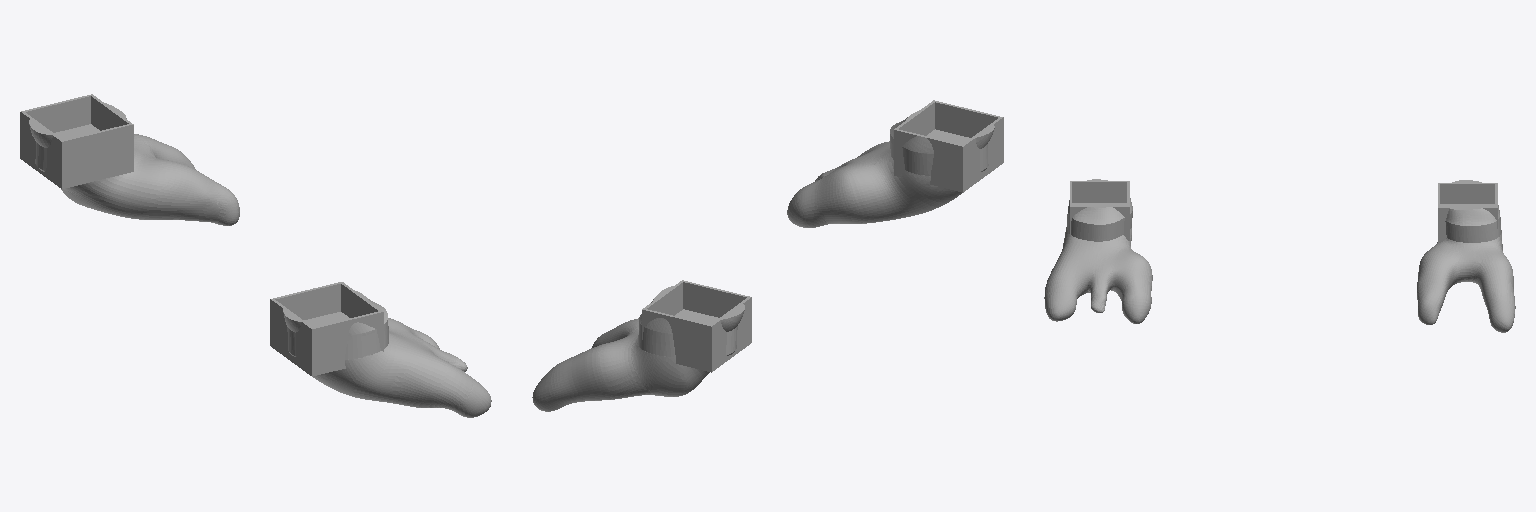
URDF robot description (FrogBot4_top-FrogBot4-x-3_bottom-FrogBot4-x-3):
<?xml version="1.0" ?>
<robot name="FrogBot4_top-FrogBot4-x-3_bottom-FrogBot4-x-3">

<material name="pla_5_percent_infill">
  <color rgba="0.700 0.700 0.700 1.000"/>
</material>

<link name="base_link">
  <inertial>
    <origin xyz="0 0 0" rpy="0 0 0"/>
    <mass value="1.4608203761339813"/>
    <inertia ixx="0.00496034401110324" iyy="0.010259632804669863" izz="0.010457868746855814" ixy="4.519338143051983e-05" iyz="5.808312742508133e-05" ixz="-0.001193761897574285"/>
  </inertial>
  <visual>
    <origin xyz="0 0 0" rpy="0 0 0"/>
    <geometry>
      <mesh filename="simple_meshes/base_link.stl" scale="0.001 0.001 0.001"/>
    </geometry>
    <material name="pla_5_percent_infill"/>
  </visual>
  <collision>
    <origin xyz="0 0 0" rpy="0 0 0"/>
    <geometry>
      <mesh filename="simple_meshes/base_link.stl" scale="0.001 0.001 0.001"/>
    </geometry>
  </collision>
</link>

<link name="body_1_0_1">
  <inertial>
    <origin xyz="-0.039935 -0.102508 -0.020563" rpy="0 0 0"/>
    <mass value="0.07144629366706118"/>
    <inertia ixx="7.542233123959208e-05" iyy="8.893405553124745e-05" izz="3.190656022220516e-05" ixy="8.958871266520293e-07" iyz="2.178495739828262e-06" ixz="-1.2484975052093947e-05"/>
  </inertial>
  <visual>
    <origin xyz="-0.039935 -0.102508 -0.020563" rpy="0 0 0"/>
    <geometry>
      <mesh filename="simple_meshes/body_1_0_1.stl" scale="0.001 0.001 0.001"/>
    </geometry>
    <material name="pla_5_percent_infill"/>
  </visual>
  <collision>
    <origin xyz="-0.039935 -0.102508 -0.020563" rpy="0 0 0"/>
    <geometry>
      <mesh filename="simple_meshes/body_1_0_1.stl" scale="0.001 0.001 0.001"/>
    </geometry>
  </collision>
</link>

<link name="body_1_1_1">
  <inertial>
    <origin xyz="0.084829 -0.102508 0.010182" rpy="0 0 0"/>
    <mass value="0.07880117918071514"/>
    <inertia ixx="5.4827380118847554e-05" iyy="9.552257855402967e-05" izz="6.0919720009596206e-05" ixy="-1.5235723012250926e-06" iyz="1.2687707818212512e-06" ixz="-2.1673407834108167e-05"/>
  </inertial>
  <visual>
    <origin xyz="0.084829 -0.102508 0.010182" rpy="0 0 0"/>
    <geometry>
      <mesh filename="simple_meshes/body_1_1_1.stl" scale="0.001 0.001 0.001"/>
    </geometry>
    <material name="pla_5_percent_infill"/>
  </visual>
  <collision>
    <origin xyz="0.084829 -0.102508 0.010182" rpy="0 0 0"/>
    <geometry>
      <mesh filename="simple_meshes/body_1_1_1.stl" scale="0.001 0.001 0.001"/>
    </geometry>
  </collision>
</link>

<link name="body_1_2_1">
  <inertial>
    <origin xyz="-0.032973 0.102508 -0.03352" rpy="0 0 0"/>
    <mass value="0.07776903154181106"/>
    <inertia ixx="9.526411621679168e-05" iyy="0.00010789375636346739" izz="3.535846431043741e-05" ixy="-2.37555302128609e-06" iyz="-1.0325512892246598e-05" ixz="-1.0659449811279055e-05"/>
  </inertial>
  <visual>
    <origin xyz="-0.032973 0.102508 -0.03352" rpy="0 0 0"/>
    <geometry>
      <mesh filename="simple_meshes/body_1_2_1.stl" scale="0.001 0.001 0.001"/>
    </geometry>
    <material name="pla_5_percent_infill"/>
  </visual>
  <collision>
    <origin xyz="-0.032973 0.102508 -0.03352" rpy="0 0 0"/>
    <geometry>
      <mesh filename="simple_meshes/body_1_2_1.stl" scale="0.001 0.001 0.001"/>
    </geometry>
  </collision>
</link>

<link name="body_1_3_1">
  <inertial>
    <origin xyz="0.075405 0.102508 -0.000907" rpy="0 0 0"/>
    <mass value="0.08438053198213159"/>
    <inertia ixx="6.0787729408156785e-05" iyy="0.00010241168200502803" izz="6.374248486077034e-05" ixy="3.0938201464342924e-07" iyz="-1.2872990172884584e-06" ixz="-2.1785447361448852e-05"/>
  </inertial>
  <visual>
    <origin xyz="0.075405 0.102508 -0.000907" rpy="0 0 0"/>
    <geometry>
      <mesh filename="simple_meshes/body_1_3_1.stl" scale="0.001 0.001 0.001"/>
    </geometry>
    <material name="pla_5_percent_infill"/>
  </visual>
  <collision>
    <origin xyz="0.075405 0.102508 -0.000907" rpy="0 0 0"/>
    <geometry>
      <mesh filename="simple_meshes/body_1_3_1.stl" scale="0.001 0.001 0.001"/>
    </geometry>
  </collision>
</link>

<link name="body_2_0_1">
  <inertial>
    <origin xyz="-0.025656 -0.145015 0.100436" rpy="0 0 0"/>
    <mass value="0.07007487479104725"/>
    <inertia ixx="4.389398440364121e-05" iyy="6.91446167399943e-05" izz="8.004083187596457e-05" ixy="-6.577873622886938e-07" iyz="-1.1177342819422391e-07" ixz="1.967434061046693e-05"/>
  </inertial>
  <visual>
    <origin xyz="-0.025656 -0.145015 0.100436" rpy="0 0 0"/>
    <geometry>
      <mesh filename="simple_meshes/body_2_0_1.stl" scale="0.001 0.001 0.001"/>
    </geometry>
    <material name="pla_5_percent_infill"/>
  </visual>
  <collision>
    <origin xyz="-0.025656 -0.145015 0.100436" rpy="0 0 0"/>
    <geometry>
      <mesh filename="simple_meshes/body_2_0_1.stl" scale="0.001 0.001 0.001"/>
    </geometry>
  </collision>
</link>

<link name="body_2_1_1">
  <inertial>
    <origin xyz="0.114857 -0.145661 0.100438" rpy="0 0 0"/>
    <mass value="0.06298721520008338"/>
    <inertia ixx="3.2514082299281086e-05" iyy="6.482717761447038e-05" izz="5.905490117860722e-05" ixy="-5.609012037292231e-06" iyz="3.887319510953446e-06" ixz="2.0068575656371568e-05"/>
  </inertial>
  <visual>
    <origin xyz="0.114857 -0.145661 0.100438" rpy="0 0 0"/>
    <geometry>
      <mesh filename="simple_meshes/body_2_1_1.stl" scale="0.001 0.001 0.001"/>
    </geometry>
    <material name="pla_5_percent_infill"/>
  </visual>
  <collision>
    <origin xyz="0.114857 -0.145661 0.100438" rpy="0 0 0"/>
    <geometry>
      <mesh filename="simple_meshes/body_2_1_1.stl" scale="0.001 0.001 0.001"/>
    </geometry>
  </collision>
</link>

<link name="body_2_2_1">
  <inertial>
    <origin xyz="-0.022601 0.152053 0.100436" rpy="0 0 0"/>
    <mass value="0.07770135432815288"/>
    <inertia ixx="4.8473858452904514e-05" iyy="7.492619992616623e-05" izz="8.720529197772837e-05" ixy="-1.518928222088759e-06" iyz="2.2126559400589135e-07" ixz="2.11838450998919e-05"/>
  </inertial>
  <visual>
    <origin xyz="-0.022601 0.152053 0.100436" rpy="0 0 0"/>
    <geometry>
      <mesh filename="simple_meshes/body_2_2_1.stl" scale="0.001 0.001 0.001"/>
    </geometry>
    <material name="pla_5_percent_infill"/>
  </visual>
  <collision>
    <origin xyz="-0.022601 0.152053 0.100436" rpy="0 0 0"/>
    <geometry>
      <mesh filename="simple_meshes/body_2_2_1.stl" scale="0.001 0.001 0.001"/>
    </geometry>
  </collision>
</link>

<link name="body_2_3_1">
  <inertial>
    <origin xyz="0.12145 0.146005 0.100436" rpy="0 0 0"/>
    <mass value="0.060238847933080736"/>
    <inertia ixx="3.856857507410693e-05" iyy="5.224331007420112e-05" izz="5.9562273070122487e-05" ixy="8.22696729869119e-06" iyz="-6.758235078979874e-06" ixz="1.4434811045756506e-05"/>
  </inertial>
  <visual>
    <origin xyz="0.12145 0.146005 0.100436" rpy="0 0 0"/>
    <geometry>
      <mesh filename="simple_meshes/body_2_3_1.stl" scale="0.001 0.001 0.001"/>
    </geometry>
    <material name="pla_5_percent_infill"/>
  </visual>
  <collision>
    <origin xyz="0.12145 0.146005 0.100436" rpy="0 0 0"/>
    <geometry>
      <mesh filename="simple_meshes/body_2_3_1.stl" scale="0.001 0.001 0.001"/>
    </geometry>
  </collision>
</link>

<joint name="joint_1_0" type="revolute">
  <origin xyz="0.039935 0.102508 0.020563" rpy="0 0 0"/>
  <parent link="base_link"/>
  <child link="body_1_0_1"/>
  <axis xyz="1.0 0.0 0.0"/>
  <limit upper="1.2" lower="-1.2" effort="3.8" velocity="5.4"/>
</joint>
<transmission name="joint_1_0_tran">
  <type>transmission_interface/SimpleTransmission</type>
  <joint name="joint_1_0">
    <hardwareInterface>PositionJointInterface</hardwareInterface>
  </joint>
  <actuator name="joint_1_0_actr">
    <hardwareInterface>PositionJointInterface</hardwareInterface>
    <mechanicalReduction>1</mechanicalReduction>
  </actuator>
</transmission>

<joint name="joint_1_1" type="revolute">
  <origin xyz="-0.084829 0.102508 -0.010182" rpy="0 0 0"/>
  <parent link="base_link"/>
  <child link="body_1_1_1"/>
  <axis xyz="1.0 0.0 0.0"/>
  <limit upper="1.2" lower="-1.2" effort="3.8" velocity="5.4"/>
</joint>
<transmission name="joint_1_1_tran">
  <type>transmission_interface/SimpleTransmission</type>
  <joint name="joint_1_1">
    <hardwareInterface>PositionJointInterface</hardwareInterface>
  </joint>
  <actuator name="joint_1_1_actr">
    <hardwareInterface>PositionJointInterface</hardwareInterface>
    <mechanicalReduction>1</mechanicalReduction>
  </actuator>
</transmission>

<joint name="joint_1_2" type="revolute">
  <origin xyz="0.032973 -0.102508 0.03352" rpy="0 0 0"/>
  <parent link="base_link"/>
  <child link="body_1_2_1"/>
  <axis xyz="1.0 0.0 0.0"/>
  <limit upper="1.2" lower="-1.2" effort="3.8" velocity="5.4"/>
</joint>
<transmission name="joint_1_2_tran">
  <type>transmission_interface/SimpleTransmission</type>
  <joint name="joint_1_2">
    <hardwareInterface>PositionJointInterface</hardwareInterface>
  </joint>
  <actuator name="joint_1_2_actr">
    <hardwareInterface>PositionJointInterface</hardwareInterface>
    <mechanicalReduction>1</mechanicalReduction>
  </actuator>
</transmission>

<joint name="joint_1_3" type="revolute">
  <origin xyz="-0.075405 -0.102508 0.000907" rpy="0 0 0"/>
  <parent link="base_link"/>
  <child link="body_1_3_1"/>
  <axis xyz="1.0 0.0 0.0"/>
  <limit upper="1.2" lower="-1.2" effort="3.8" velocity="5.4"/>
</joint>
<transmission name="joint_1_3_tran">
  <type>transmission_interface/SimpleTransmission</type>
  <joint name="joint_1_3">
    <hardwareInterface>PositionJointInterface</hardwareInterface>
  </joint>
  <actuator name="joint_1_3_actr">
    <hardwareInterface>PositionJointInterface</hardwareInterface>
    <mechanicalReduction>1</mechanicalReduction>
  </actuator>
</transmission>

<joint name="joint_2_0" type="revolute">
  <origin xyz="-0.014279 0.042507 -0.120999" rpy="0 0 0"/>
  <parent link="body_1_0_1"/>
  <child link="body_2_0_1"/>
  <axis xyz="1.0 0.0 0.0"/>
  <limit upper="1.2" lower="-1.2" effort="3.8" velocity="5.4"/>
</joint>
<transmission name="joint_2_0_tran">
  <type>transmission_interface/SimpleTransmission</type>
  <joint name="joint_2_0">
    <hardwareInterface>PositionJointInterface</hardwareInterface>
  </joint>
  <actuator name="joint_2_0_actr">
    <hardwareInterface>PositionJointInterface</hardwareInterface>
    <mechanicalReduction>1</mechanicalReduction>
  </actuator>
</transmission>

<joint name="joint_2_1" type="revolute">
  <origin xyz="-0.030028 0.043153 -0.090256" rpy="0 0 0"/>
  <parent link="body_1_1_1"/>
  <child link="body_2_1_1"/>
  <axis xyz="1.0 0.0 0.0"/>
  <limit upper="1.2" lower="-1.2" effort="3.8" velocity="5.4"/>
</joint>
<transmission name="joint_2_1_tran">
  <type>transmission_interface/SimpleTransmission</type>
  <joint name="joint_2_1">
    <hardwareInterface>PositionJointInterface</hardwareInterface>
  </joint>
  <actuator name="joint_2_1_actr">
    <hardwareInterface>PositionJointInterface</hardwareInterface>
    <mechanicalReduction>1</mechanicalReduction>
  </actuator>
</transmission>

<joint name="joint_2_2" type="revolute">
  <origin xyz="-0.010372 -0.049545 -0.133956" rpy="0 0 0"/>
  <parent link="body_1_2_1"/>
  <child link="body_2_2_1"/>
  <axis xyz="1.0 0.0 0.0"/>
  <limit upper="1.2" lower="-1.2" effort="3.8" velocity="5.4"/>
</joint>
<transmission name="joint_2_2_tran">
  <type>transmission_interface/SimpleTransmission</type>
  <joint name="joint_2_2">
    <hardwareInterface>PositionJointInterface</hardwareInterface>
  </joint>
  <actuator name="joint_2_2_actr">
    <hardwareInterface>PositionJointInterface</hardwareInterface>
    <mechanicalReduction>1</mechanicalReduction>
  </actuator>
</transmission>

<joint name="joint_2_3" type="revolute">
  <origin xyz="-0.046045 -0.043497 -0.101343" rpy="0 0 0"/>
  <parent link="body_1_3_1"/>
  <child link="body_2_3_1"/>
  <axis xyz="1.0 0.0 0.0"/>
  <limit upper="1.2" lower="-1.2" effort="3.8" velocity="5.4"/>
</joint>
<transmission name="joint_2_3_tran">
  <type>transmission_interface/SimpleTransmission</type>
  <joint name="joint_2_3">
    <hardwareInterface>PositionJointInterface</hardwareInterface>
  </joint>
  <actuator name="joint_2_3_actr">
    <hardwareInterface>PositionJointInterface</hardwareInterface>
    <mechanicalReduction>1</mechanicalReduction>
  </actuator>
</transmission>

</robot>

--- Render facts (derived) ---
3 views of the same robot in one strip: view 1: azimuth 30°, elevation 25°; view 2: azimuth 150°, elevation 25°; view 3: azimuth 270°, elevation 25° (orthographic).
Model FrogBot4_top-FrogBot4-x-3_bottom-FrogBot4-x-3 with 9 links and 8 joints (8 revolute), rooted at base_link, posed all joints at 0.
Links seen in each view (by area): view 1: body_2_2_1, body_2_0_1; view 2: body_2_2_1, body_2_0_1; view 3: body_2_2_1, body_2_0_1.
Link boxes in pixels (x1=…): body_2_2_1: x1=270, y1=282, x2=491, y2=417; body_2_0_1: x1=20, y1=94, x2=239, y2=225; body_2_2_1: x1=787, y1=100, x2=1003, y2=227; body_2_0_1: x1=532, y1=280, x2=751, y2=411; body_2_2_1: x1=1044, y1=179, x2=1152, y2=323; body_2_0_1: x1=1417, y1=180, x2=1515, y2=332.
Bounding box of the posed robot: 0.1276 × 0.3799 × 0.0803 m (x, y, z).
2 mesh visuals loaded from 9 distinct referenced files (2 binary STL); not drawn: 7 (reference not matched to a file when rendering).